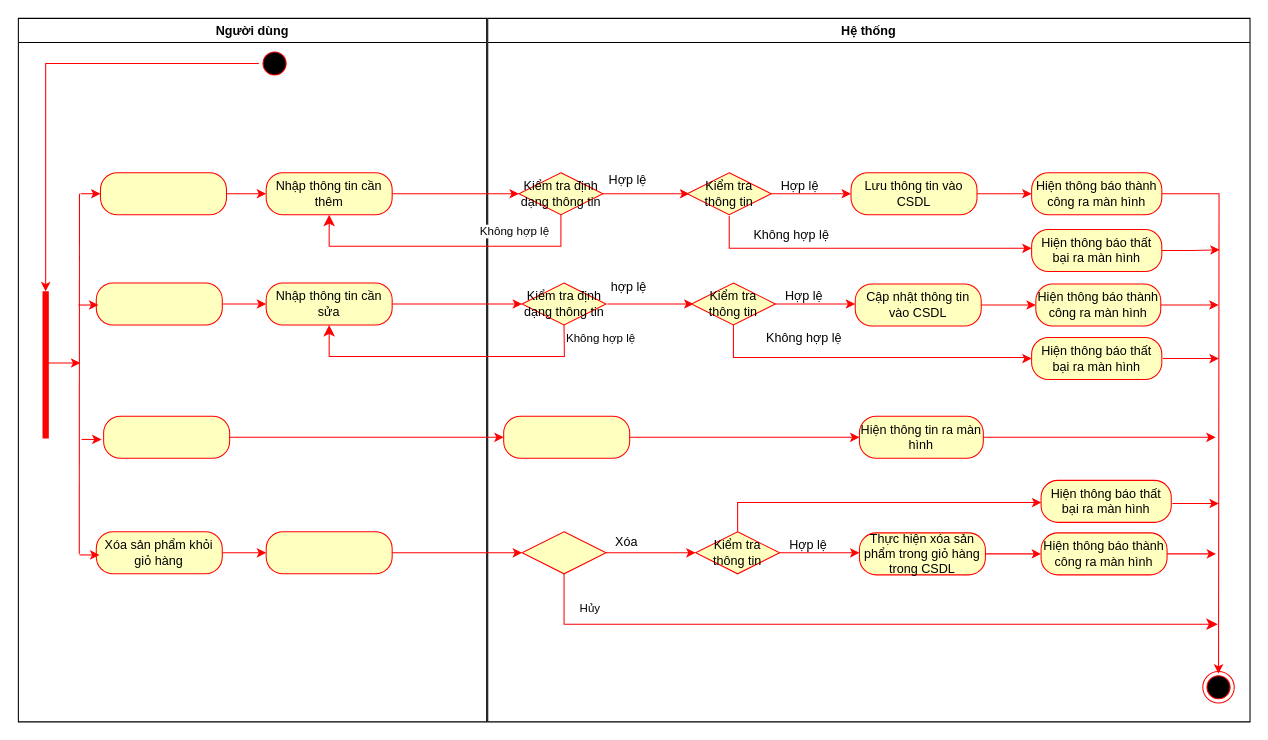
Some shapes in this 1268 by 740 pixel diagram are drawn without their labels. The centre of each missing label's shape, as x and y in pixels:
Chọn sản phẩm xóa: point 328,552
Sửa sản phẩm trong giỏ hàng: point 158,303
Thêm sản phẩm vào giỏ hàng: point 162,193
Truy xuất dữ liệu sản phẩm trong CSDL: point 566,436
Xem thông tin giỏ hàng: point 166,436
Xác nhận xóa: point 563,552
